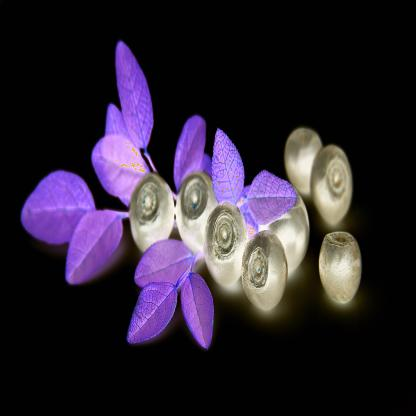blueberry leaf: (112, 36, 159, 155), (64, 210, 123, 289), (180, 268, 219, 360), (126, 281, 177, 348), (247, 162, 298, 227), (210, 126, 242, 207)
